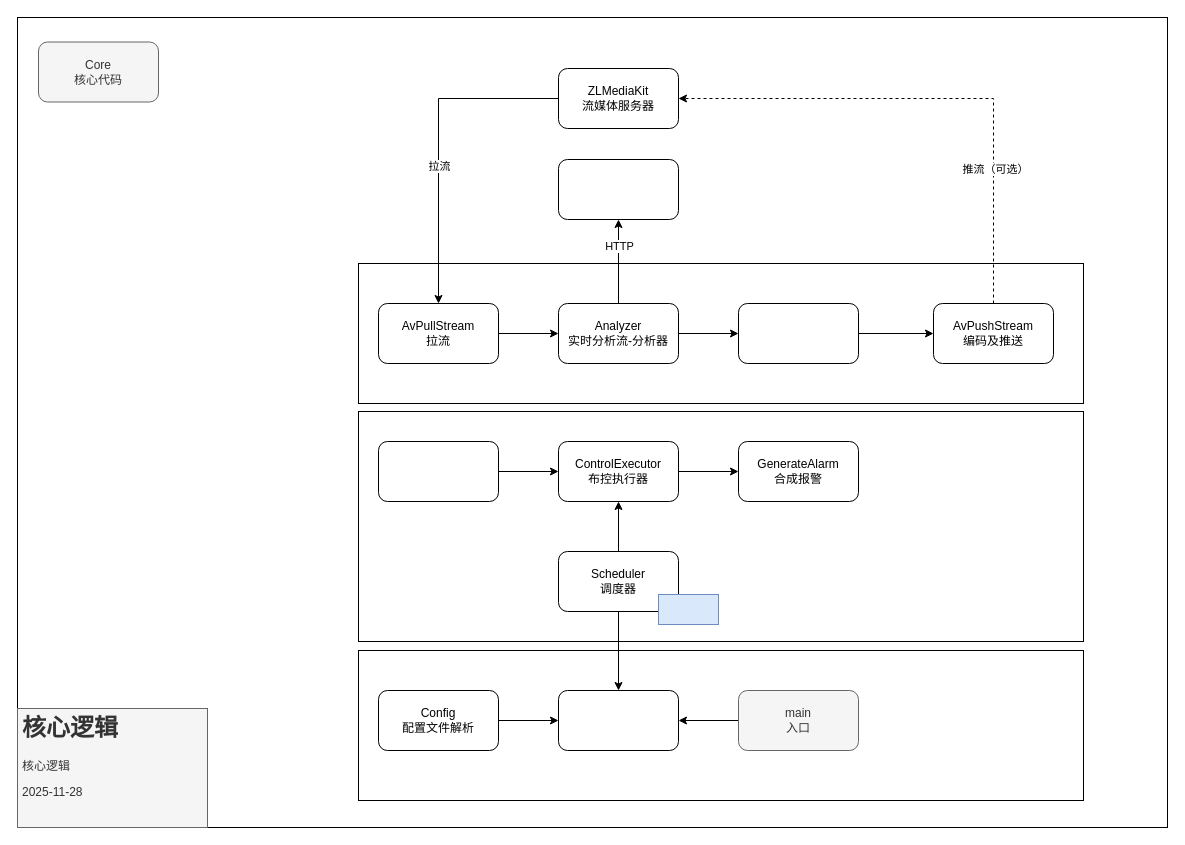
Image size: 1185x845. Some labels were removed from this diagram. Each missing label, with the centre of its shape:
"Algorithm 实时算法" goes at point 618,189.
"Control 布控参数" goes at point 438,471.
"GenerateVideo 视频合成" goes at point 798,333.
"Loop" goes at point 688,609.
"Server 操作接口入口" goes at point 618,720.
